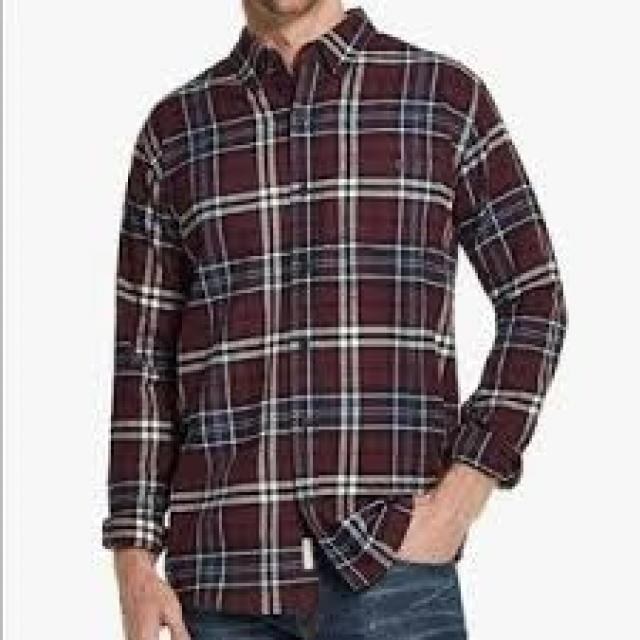plaid: (89, 25, 575, 587)
